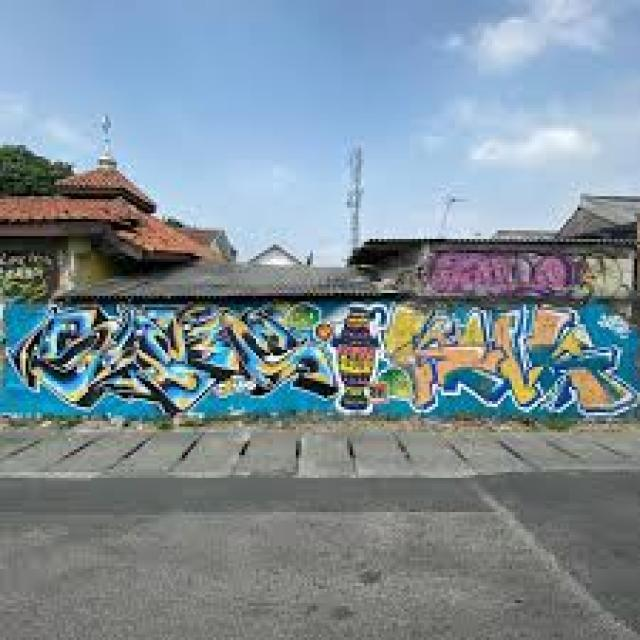-: (0, 301, 638, 421), (430, 252, 630, 296)
